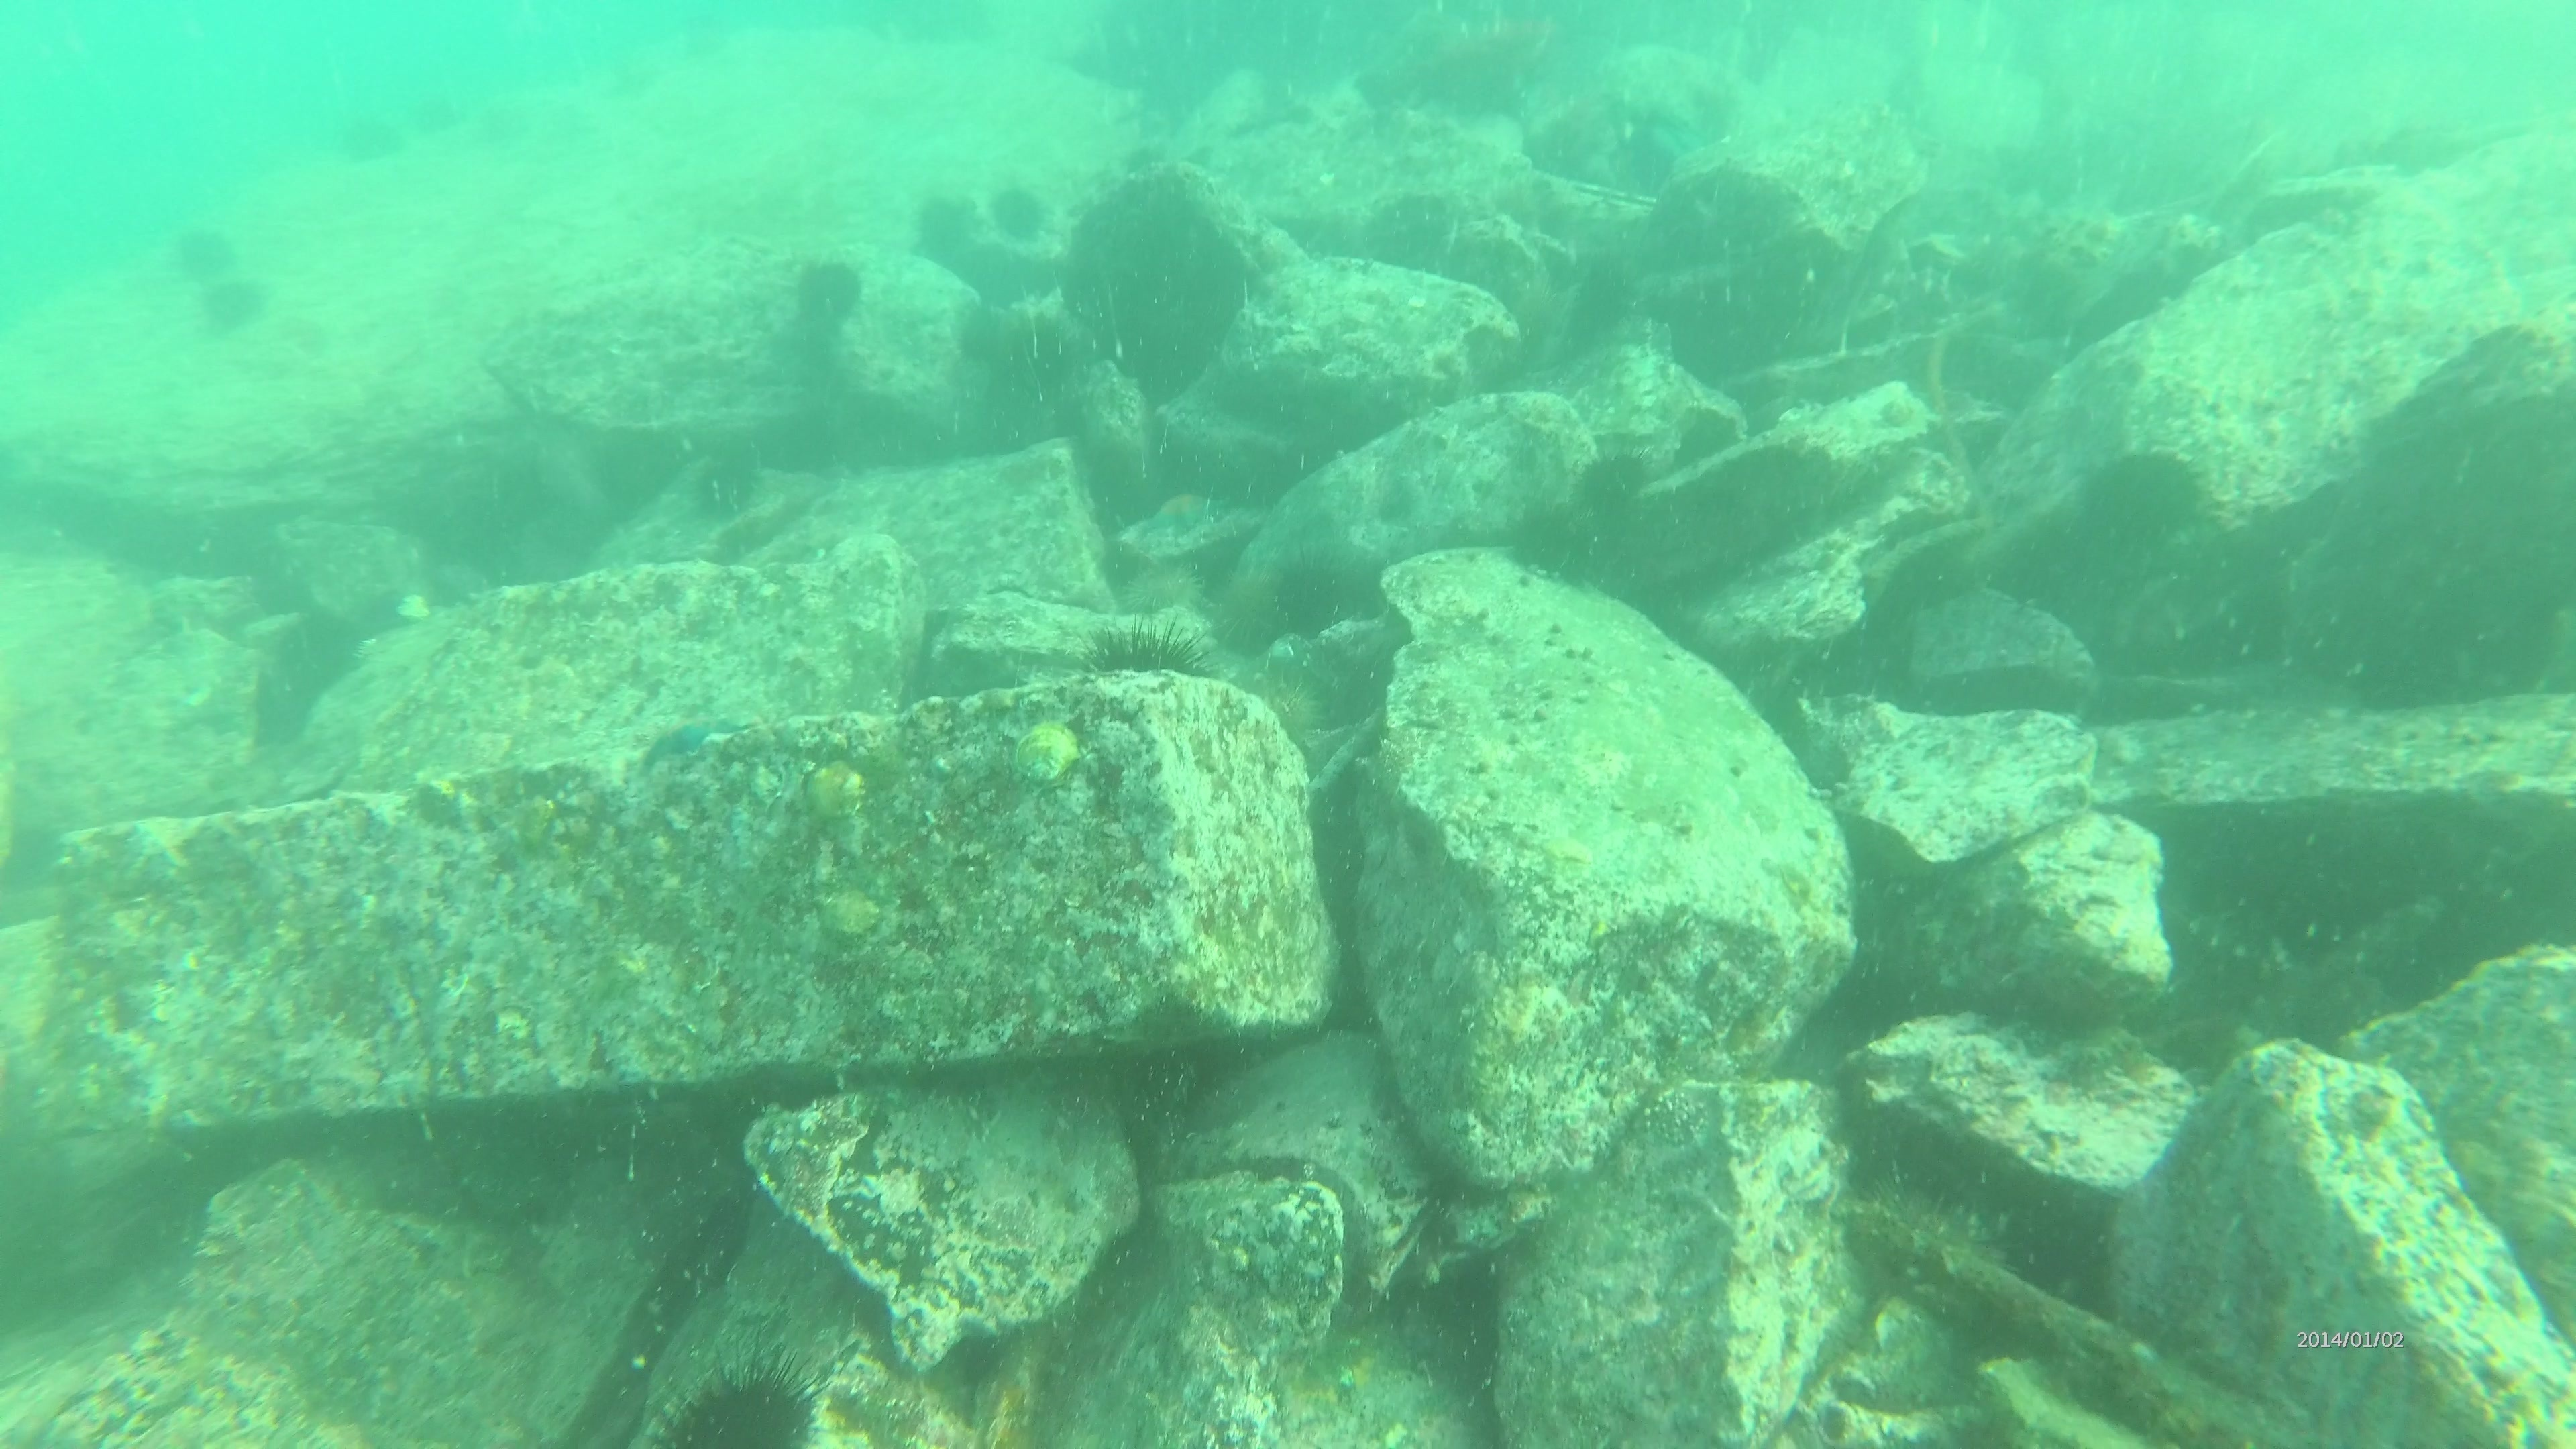echinus: (2072, 441, 2213, 561), (653, 1355, 830, 1444), (1258, 545, 1376, 649), (1079, 612, 1219, 692), (1568, 439, 1660, 540), (678, 435, 771, 529), (782, 249, 870, 343), (989, 317, 1083, 405), (906, 184, 985, 274), (166, 218, 246, 297), (1522, 511, 1598, 593), (189, 267, 271, 341), (327, 103, 410, 172), (984, 175, 1054, 251), (1224, 559, 1288, 640), (1127, 557, 1203, 614), (1260, 674, 1318, 745), (954, 303, 1014, 357)
starfish: (633, 704, 743, 771), (1138, 483, 1228, 536)
